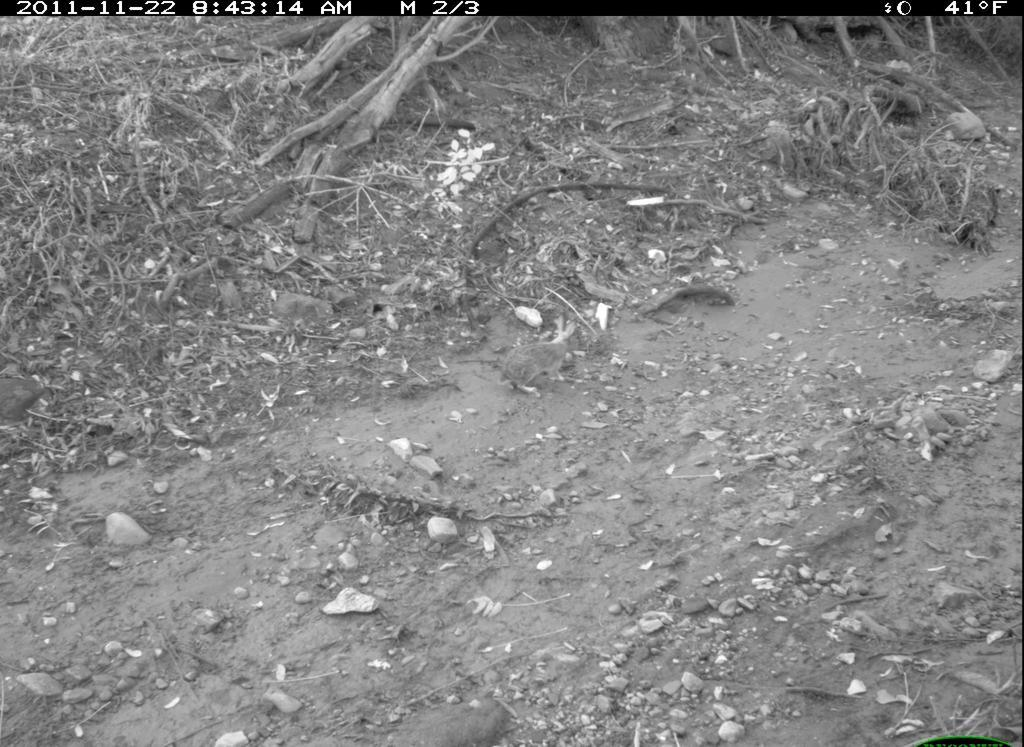rabbit: (498, 312, 583, 397)
